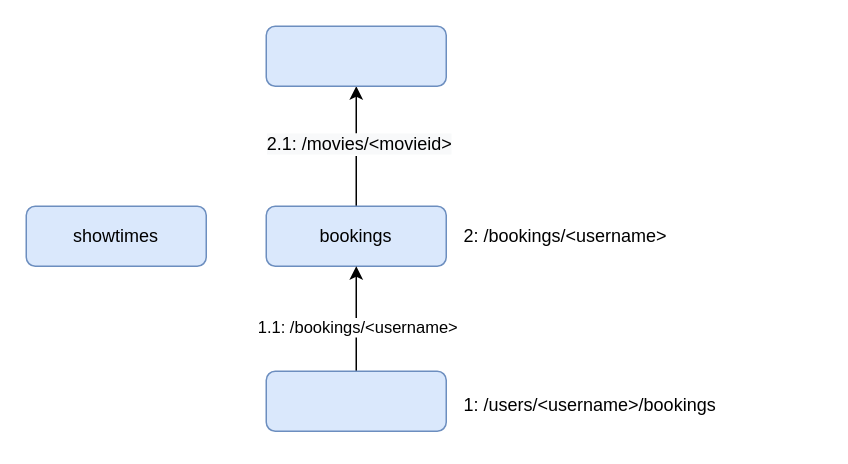
This 848x464 diagram has some shape labels left out. Each missing label, with the centre of its shape:
movies: point (355, 55)
users: point (355, 400)
